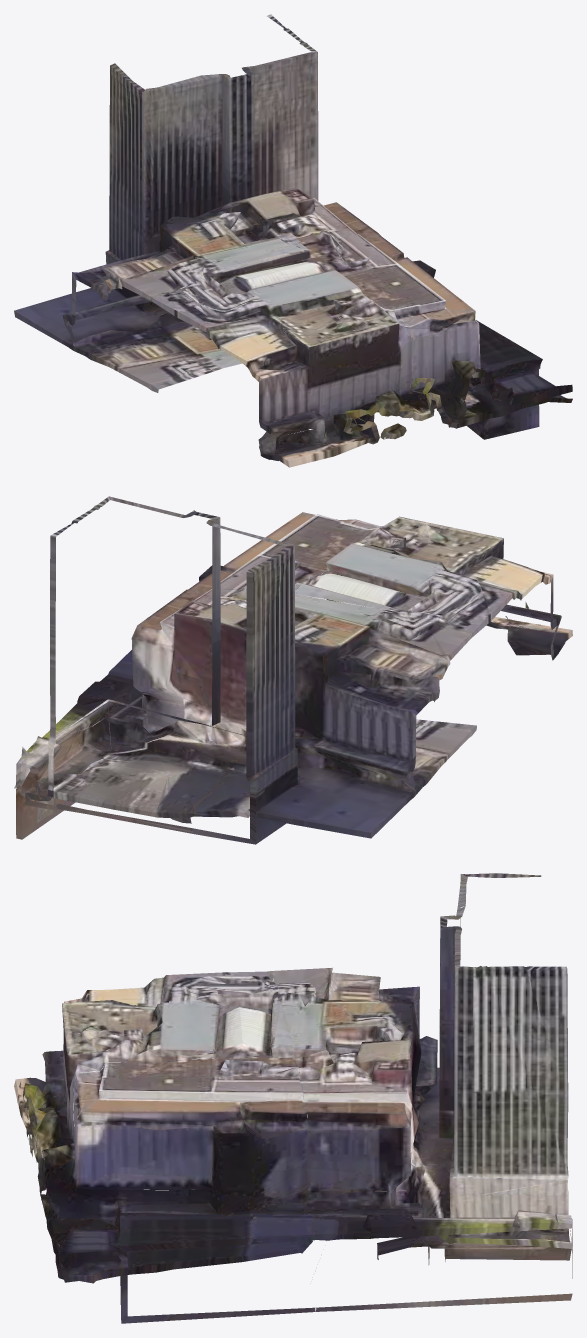
The picture shows the model from 3 angles, top to bottom: view 1: azimuth 30°, elevation 25°; view 2: azimuth 150°, elevation 25°; view 3: azimuth 270°, elevation 25°; orthographic projection. The views are drawn at different scales.
Visible parts, largest first — view 1: Mesh_0; view 2: Mesh_0; view 3: Mesh_0.
Boxes of the visible parts, box(x1,y1,x2,y2) form: Mesh_0: box(14, 14, 572, 467); Mesh_0: box(14, 496, 572, 844); Mesh_0: box(14, 873, 572, 1323).
Size of the model in its own units: 66.6 by 51.79 by 82.59.
Materials: 1 (1 with a texture image).
